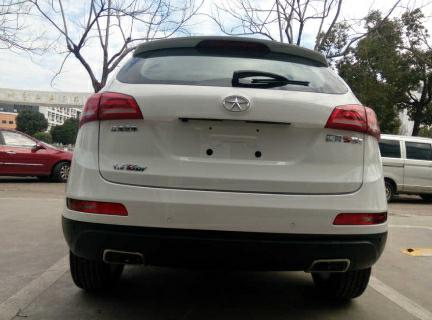江淮-瑞风S7: (62, 32, 395, 304)
